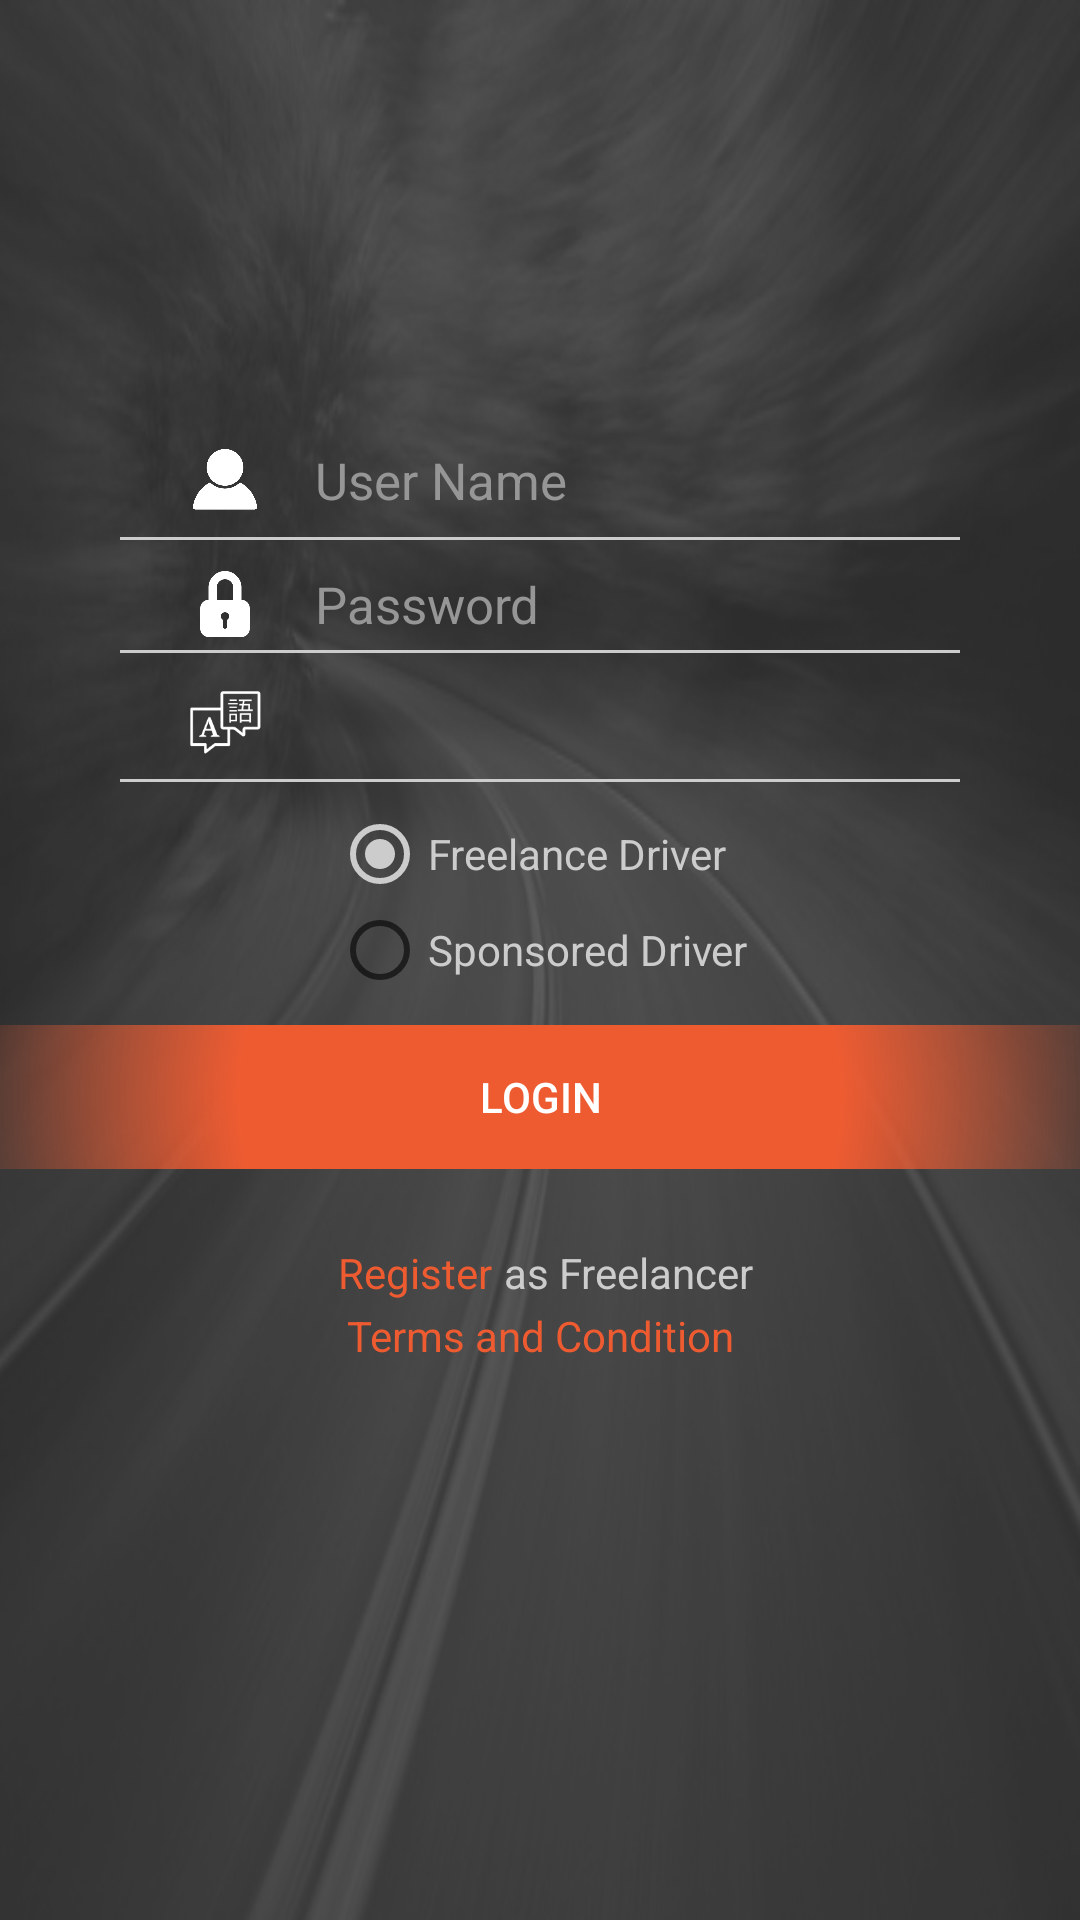

Named icons in this screenshot (1080px x 1920px) and their bounding boxes, Rect(x1, y1, x2, y2):
language: Rect(190, 691, 261, 754)
lock: Rect(200, 571, 250, 637)
profile: Rect(193, 449, 257, 510)
